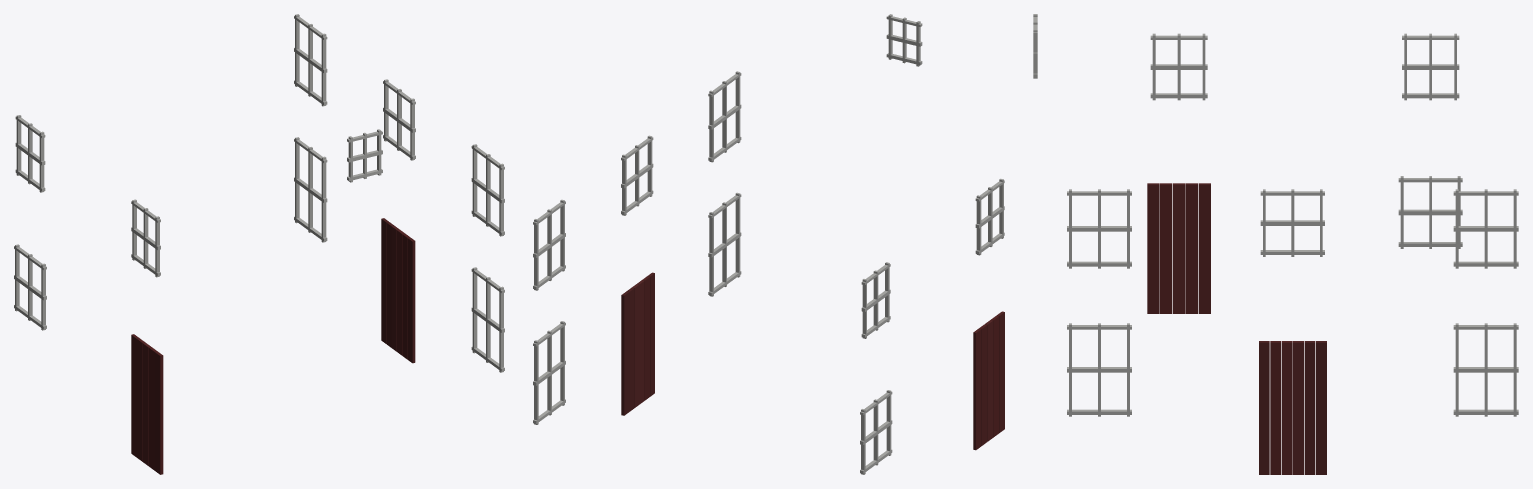
Rendered from SM_Bld_216_Wood.glb.
The picture shows the model from 3 angles, left to right: view 1: azimuth 30°, elevation 25°; view 2: azimuth 150°, elevation 25°; view 3: azimuth 270°, elevation 25°; orthographic projection. The views are drawn at different scales.
Parts seen in each view (by area): view 1: SM_Bld_216_Wood; view 2: SM_Bld_216_Wood; view 3: SM_Bld_216_Wood.
Part boxes in pixels (box(x1,y1,x2,y2)): SM_Bld_216_Wood: box(14, 14, 504, 474); SM_Bld_216_Wood: box(533, 14, 1004, 474); SM_Bld_216_Wood: box(1033, 14, 1518, 474).
Size of the model in its own units: 5.44 by 5.75 by 6.81.
